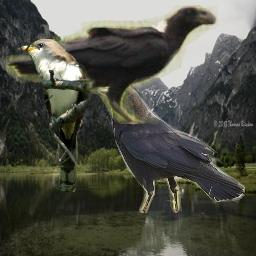Crow: (6, 5, 219, 124), (97, 85, 245, 213)
Cuckoo: (16, 38, 90, 192)
